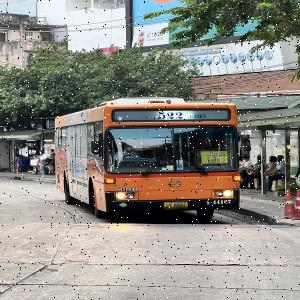BMTA-bus: (53, 98, 241, 222)
Bus Line Number: (153, 109, 207, 121)
Bus Side Number: (203, 199, 233, 205)
Destination Sign: (199, 151, 229, 164)
